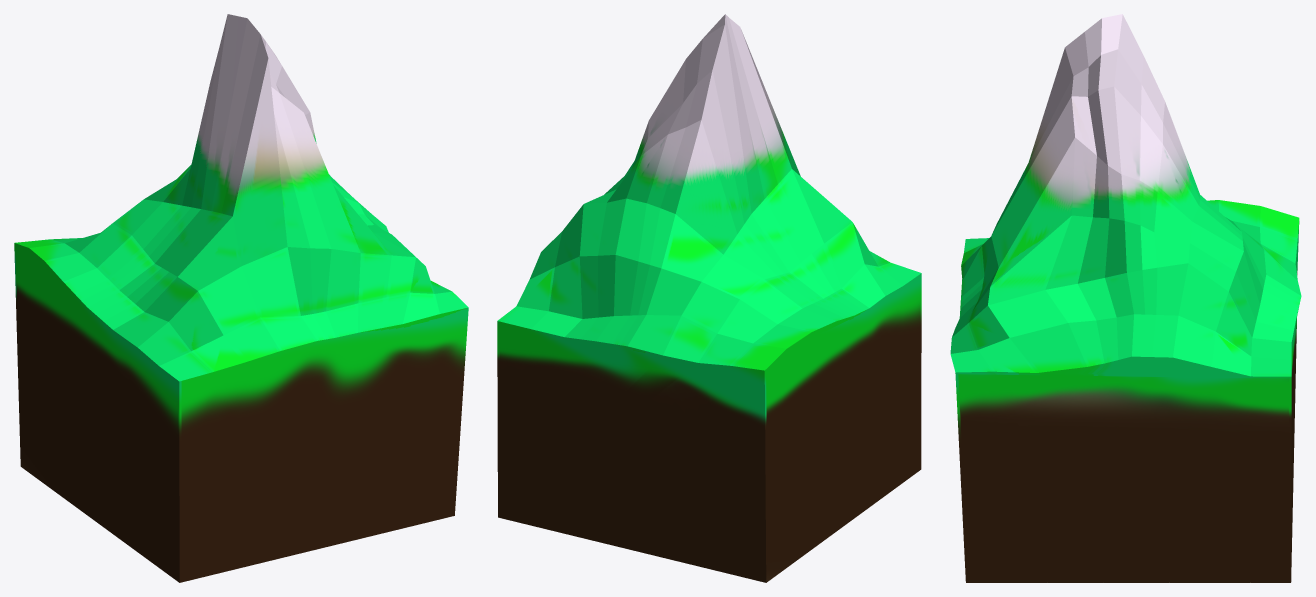
Rendered from mountain.glb.
The picture shows the model from 3 angles, left to right: view 1: azimuth 30°, elevation 25°; view 2: azimuth 150°, elevation 25°; view 3: azimuth 270°, elevation 25°; orthographic projection. The views are drawn at different scales.
Parts seen in each view (by area): view 1: Cube; view 2: Cube; view 3: Cube.
Part boxes in pixels (x1,y1,x2,y2): Cube: (14,14,468,582); Cube: (497,14,921,582); Cube: (950,14,1301,582).
Size of the model in its own units: 5.6 by 8.53 by 5.49.
Materials: 1 (1 with a texture image).
